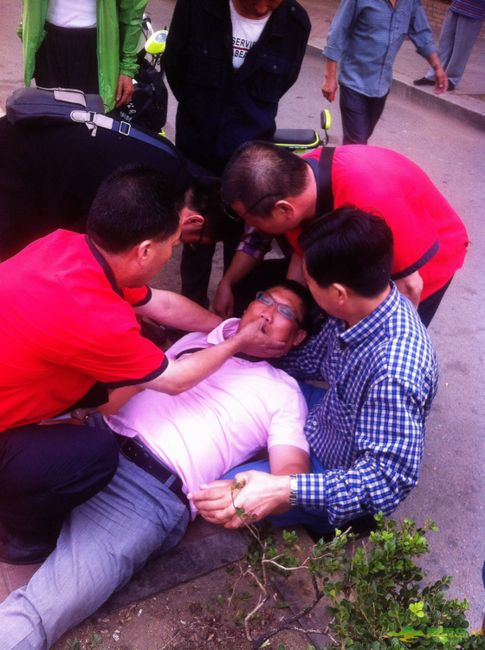fall: (6, 259, 320, 650)
